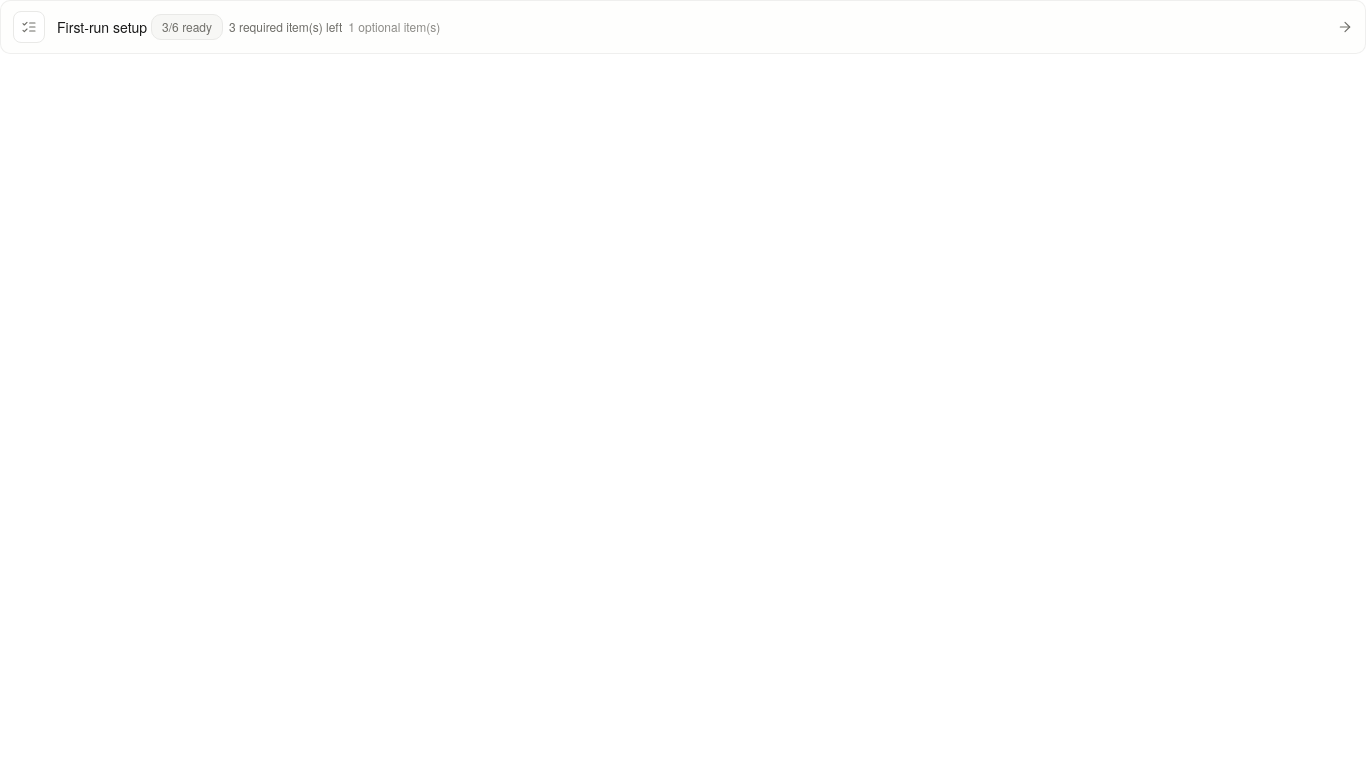
Test: ReadinessCenter › opens a right-side checklist that makes progress counts explainable
Click the button with aria-label "open setup checklist" at (29, 27), box [0,0,1365,54]
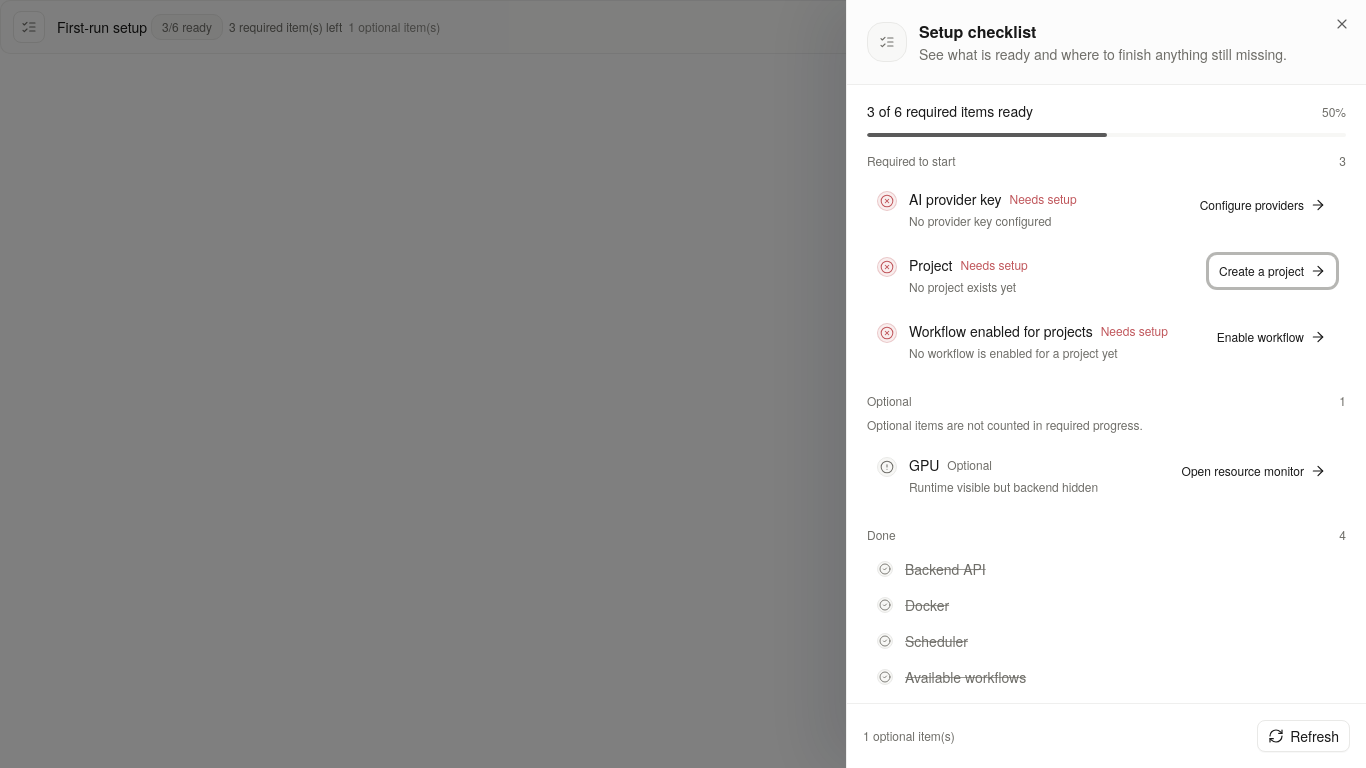
Expected: the dialog "Setup checklist" is shown, [846,0,1365,767]
Expected: the text "3 of 6 required items ready" is shown, [867,101,1033,121]
Expected: the text "Backend API" is shown, [905,559,986,579]
